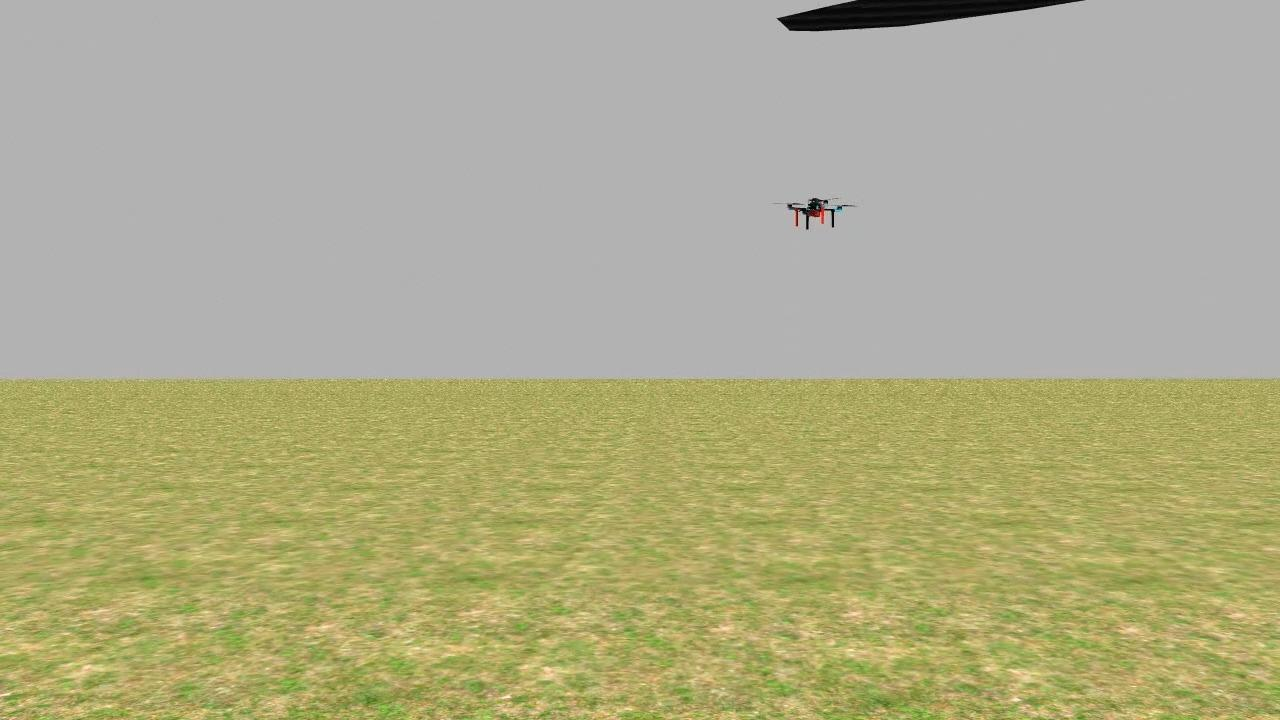UAV: (776, 185, 852, 244)
